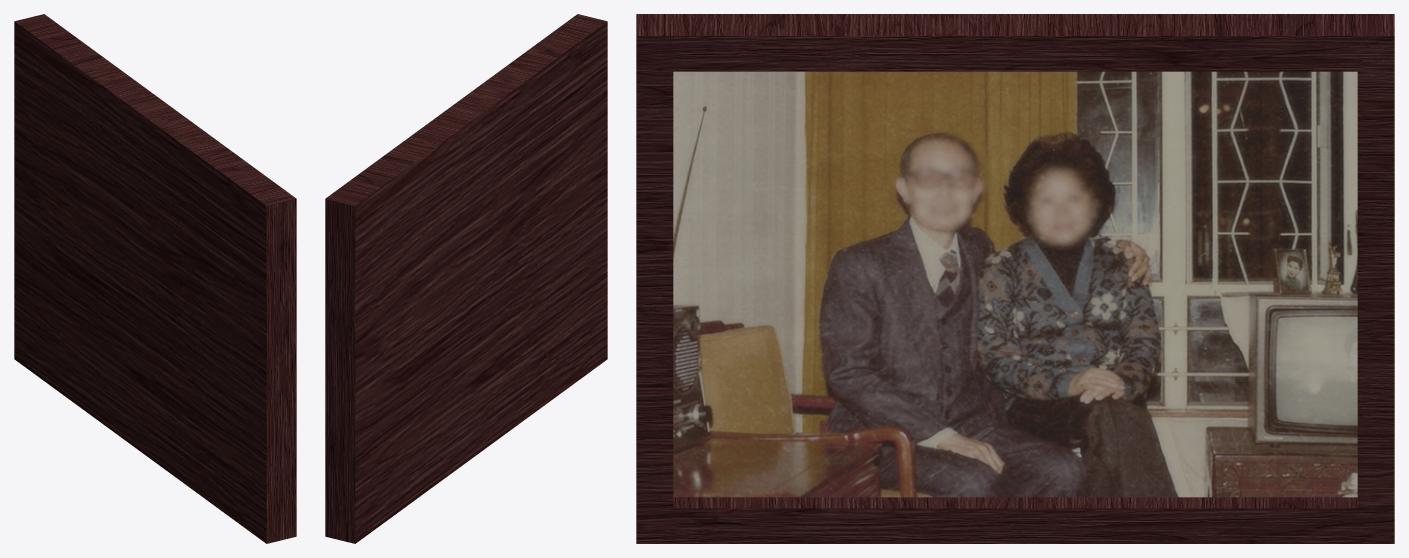
Rendered from frame3_2_grandparents.FBX.
3 renders of one model, left to right at view 1: azimuth 30°, elevation 25°; view 2: azimuth 150°, elevation 25°; view 3: azimuth 270°, elevation 25°, orthographic. The views are drawn at different scales.
Visible parts, largest first — view 1: wall frame001; view 2: wall frame001; view 3: wall frame001.
Part boxes in pixels (x1=…): wall frame001: x1=14, y1=14, x2=296, y2=543; wall frame001: x1=325, y1=14, x2=607, y2=543; wall frame001: x1=636, y1=14, x2=1394, y2=543.
Size of the model in its own units: 1.64 by 17.68 by 23.92.
Materials: 1 (1 with a texture image).
